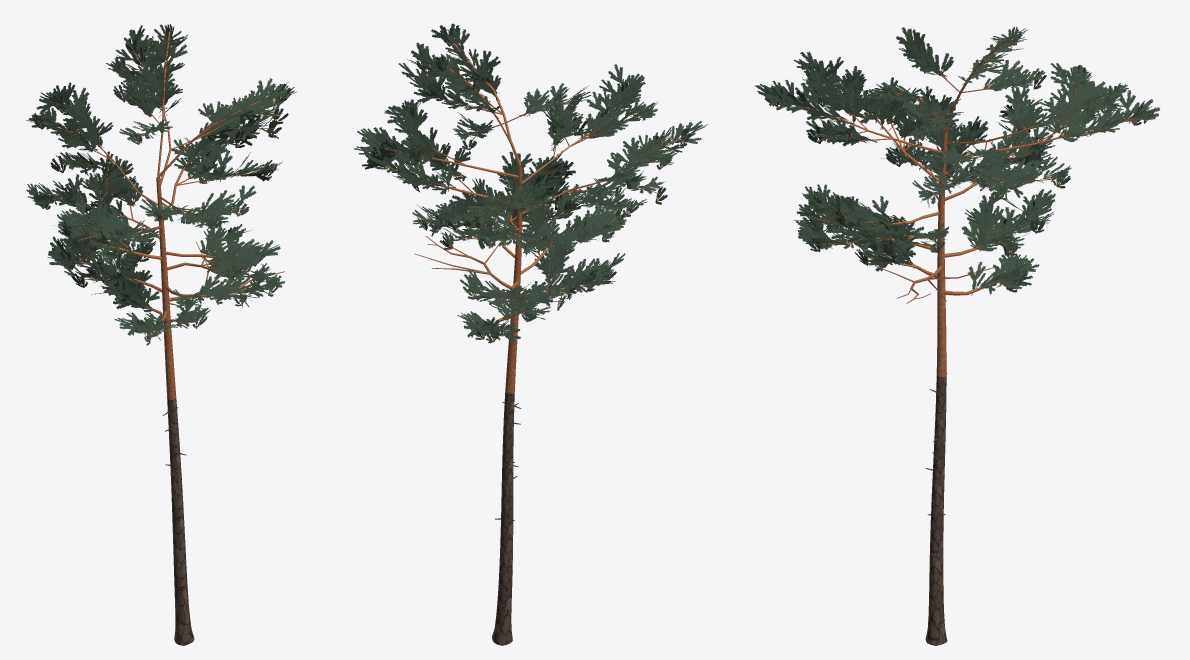
File: pine_b_LOD0.glb
The picture shows the model from 3 angles, left to right: view 1: azimuth 30°, elevation 25°; view 2: azimuth 150°, elevation 25°; view 3: azimuth 270°, elevation 25°; orthographic projection. The views are drawn at different scales.
Visible parts, largest first — view 1: Pine_B_LOD0_Foliage, Pine_B_LOD0_Bark; view 2: Pine_B_LOD0_Foliage, Pine_B_LOD0_Bark; view 3: Pine_B_LOD0_Foliage, Pine_B_LOD0_Bark.
Boxes of the visible parts, left/top/right/bottom form: Pine_B_LOD0_Foliage: left=26, top=24, right=297, bottom=345; Pine_B_LOD0_Bark: left=37, top=31, right=284, bottom=645; Pine_B_LOD0_Foliage: left=354, top=23, right=707, bottom=343; Pine_B_LOD0_Bark: left=378, top=37, right=684, bottom=645; Pine_B_LOD0_Foliage: left=755, top=26, right=1159, bottom=295; Pine_B_LOD0_Bark: left=806, top=34, right=1149, bottom=645.
Bounding box in the file's own units: 8.14 × 17.8 × 10.93.
Materials: 2 (2 with a texture image).
